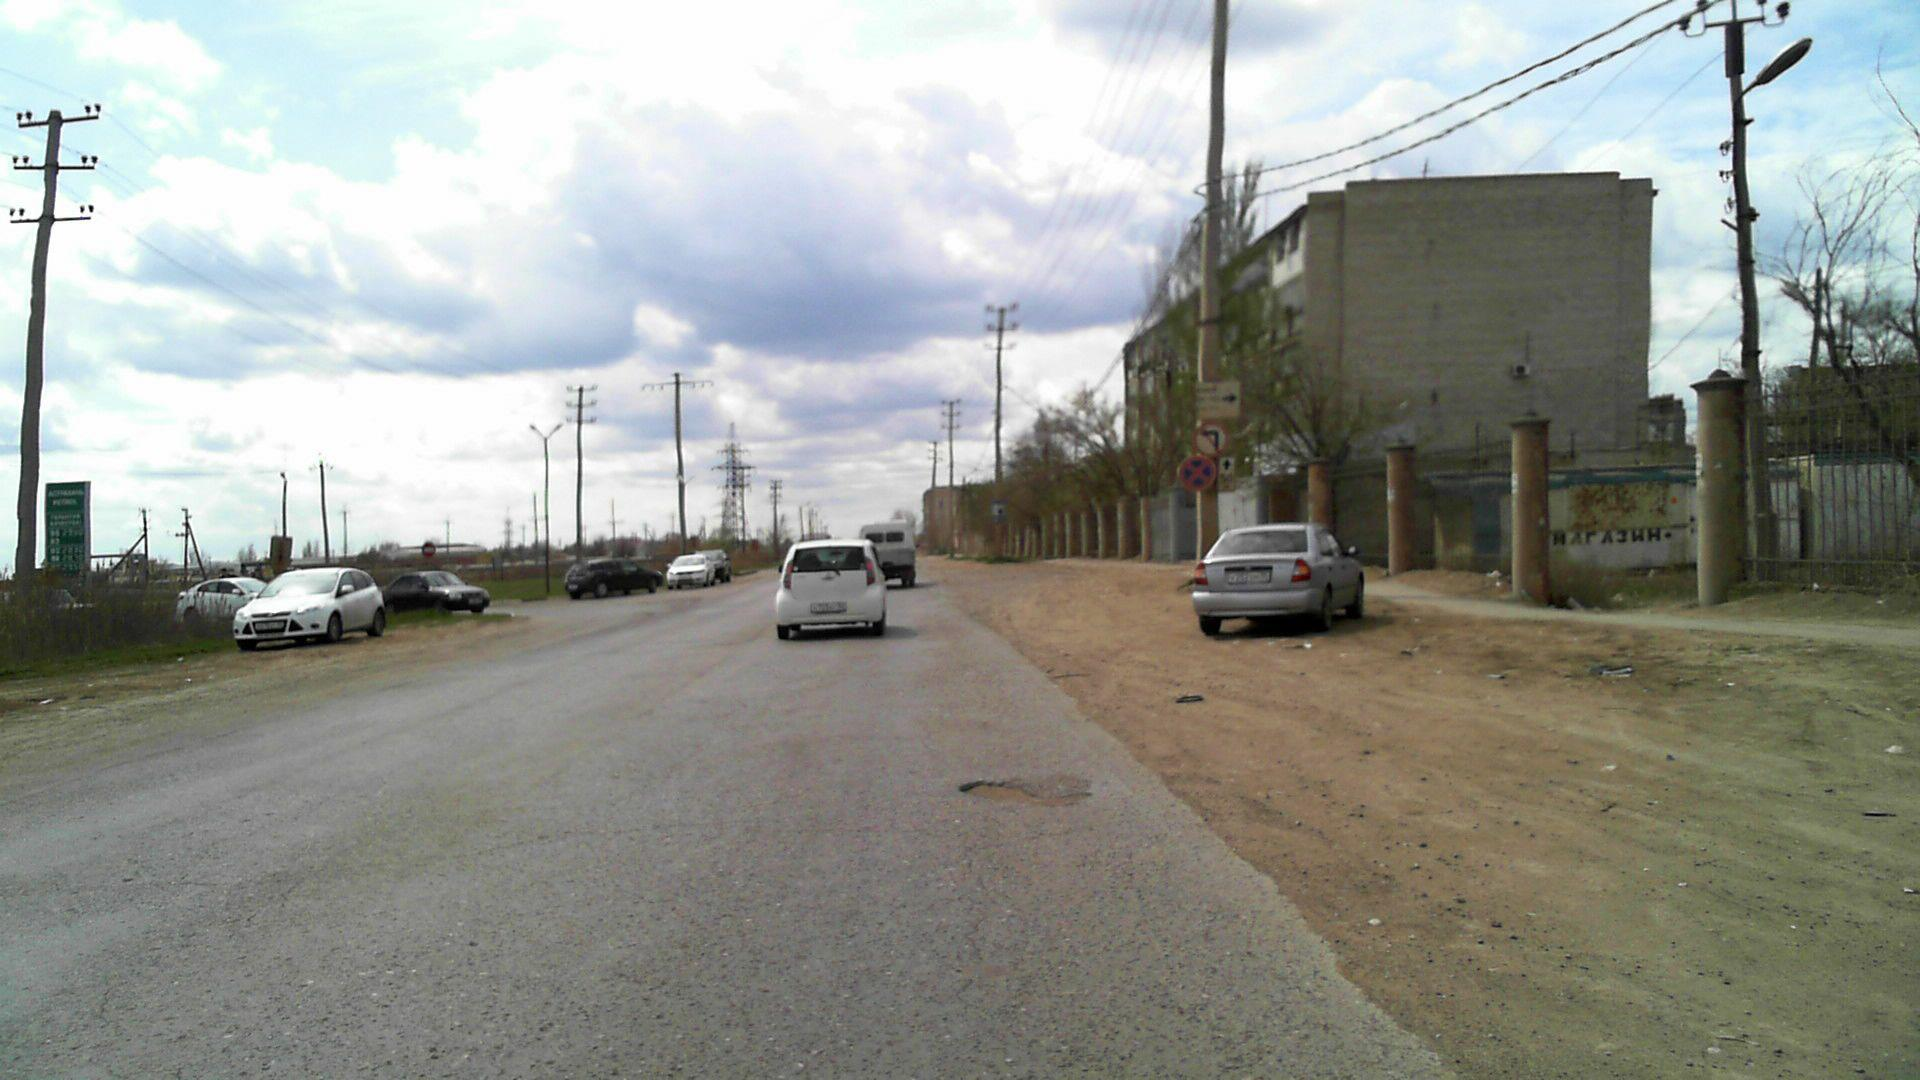3_1: (422, 542, 436, 558)
3_18_2: (1196, 423, 1226, 456)
3_27: (1176, 456, 1216, 492)
7_3: (990, 500, 1007, 525)
8_2_2: (1217, 458, 1238, 492)
